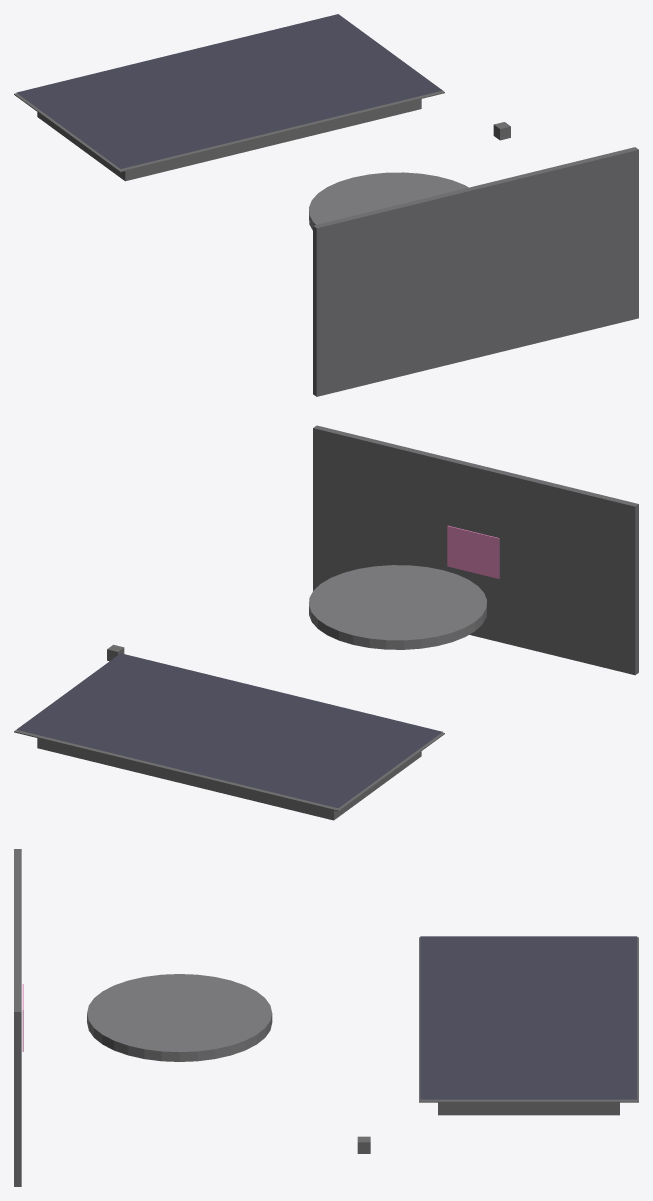
The model's file is ProVision32.glb.
3 renders of one model, top to bottom at view 1: azimuth 30°, elevation 25°; view 2: azimuth 150°, elevation 25°; view 3: azimuth 270°, elevation 25°, orthographic. The views are drawn at different scales.
Visible parts, largest first — view 1: ProVision32; view 2: ProVision32; view 3: ProVision32.
Part boxes in pixels (x1,y1,x2,y2): ProVision32: (14,14,638,396); ProVision32: (14,425,638,820); ProVision32: (14,849,638,1186).
Bounding box in the file's own units: 0.3969 × 0.177 × 0.5735.
